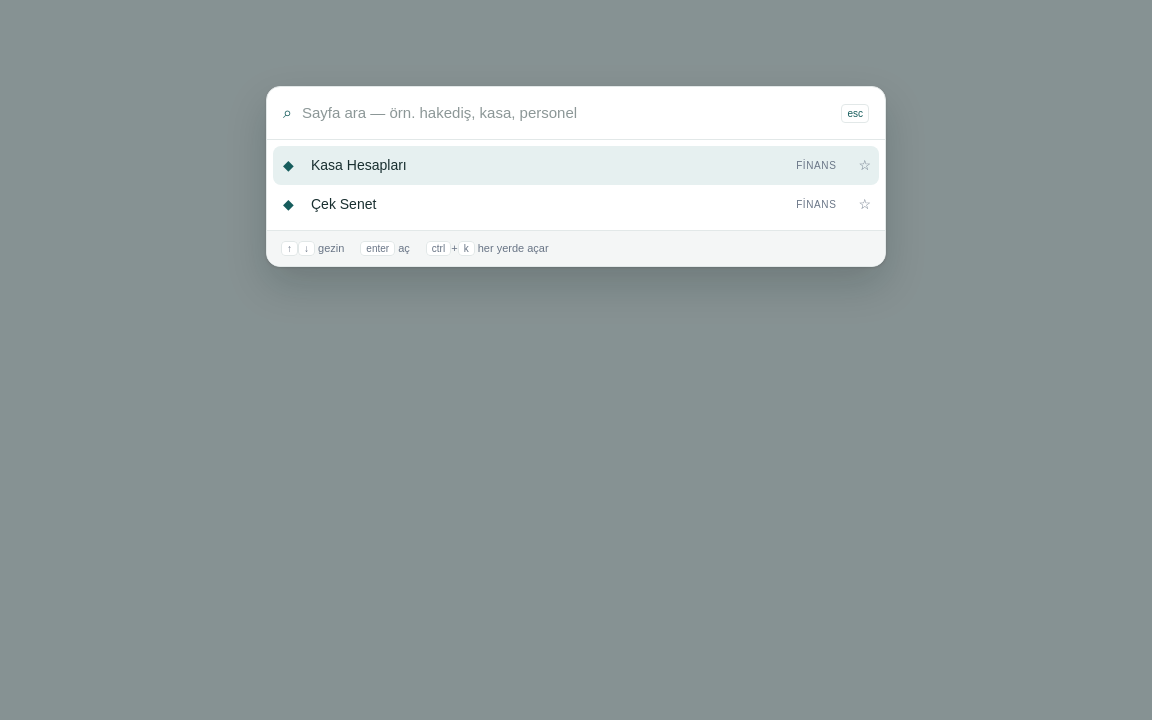
Test case: CommandPalette › verilen listede olmayan sayfayı hiçbir aramada göstermez
In the field labelled "Sayfa ara": x=567, y=113 top-left (302, 102), bottom-right (832, 125), type "bordro"
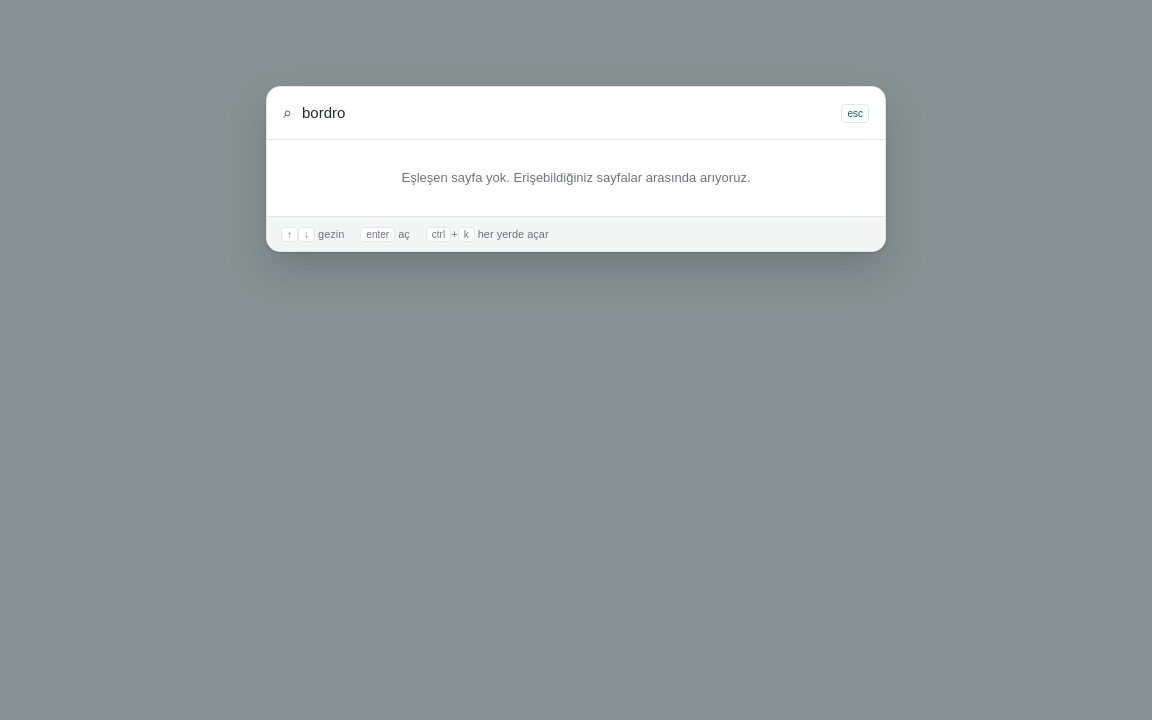
Now the list item "Eşleşen sayfa yok" is shown, box top-left (402, 170), bottom-right (750, 185)
